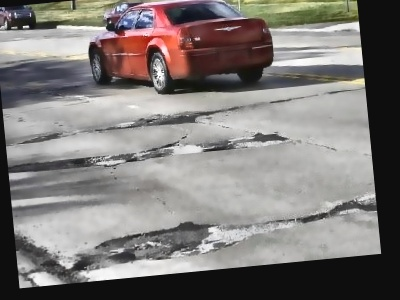pothole: (73, 217, 223, 273), (8, 150, 143, 175), (114, 108, 202, 130), (329, 196, 377, 216), (204, 140, 237, 153)
